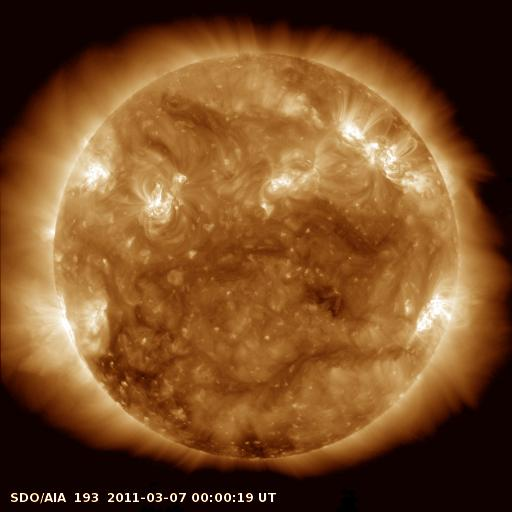coronal_hole: (204, 431, 301, 460)
